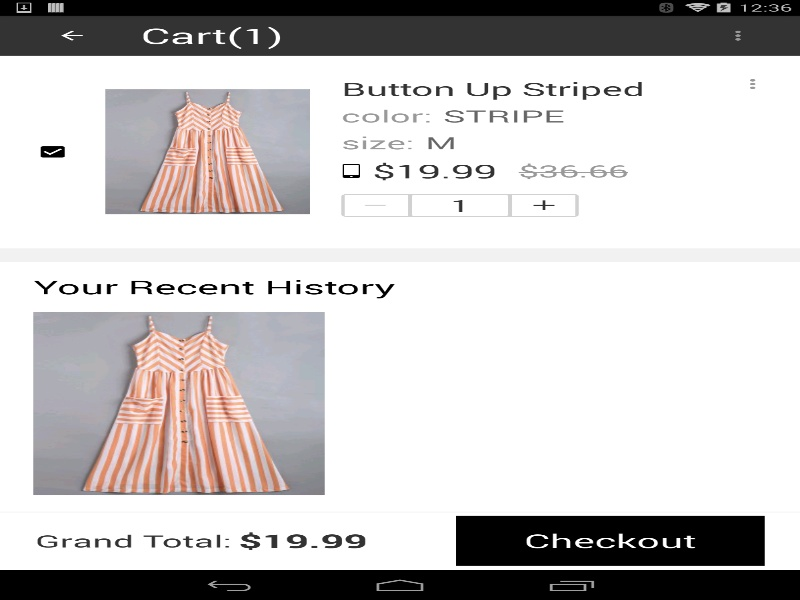Button: (455, 515, 764, 565), (10, 15, 135, 55)
Input: (409, 194, 509, 216)
